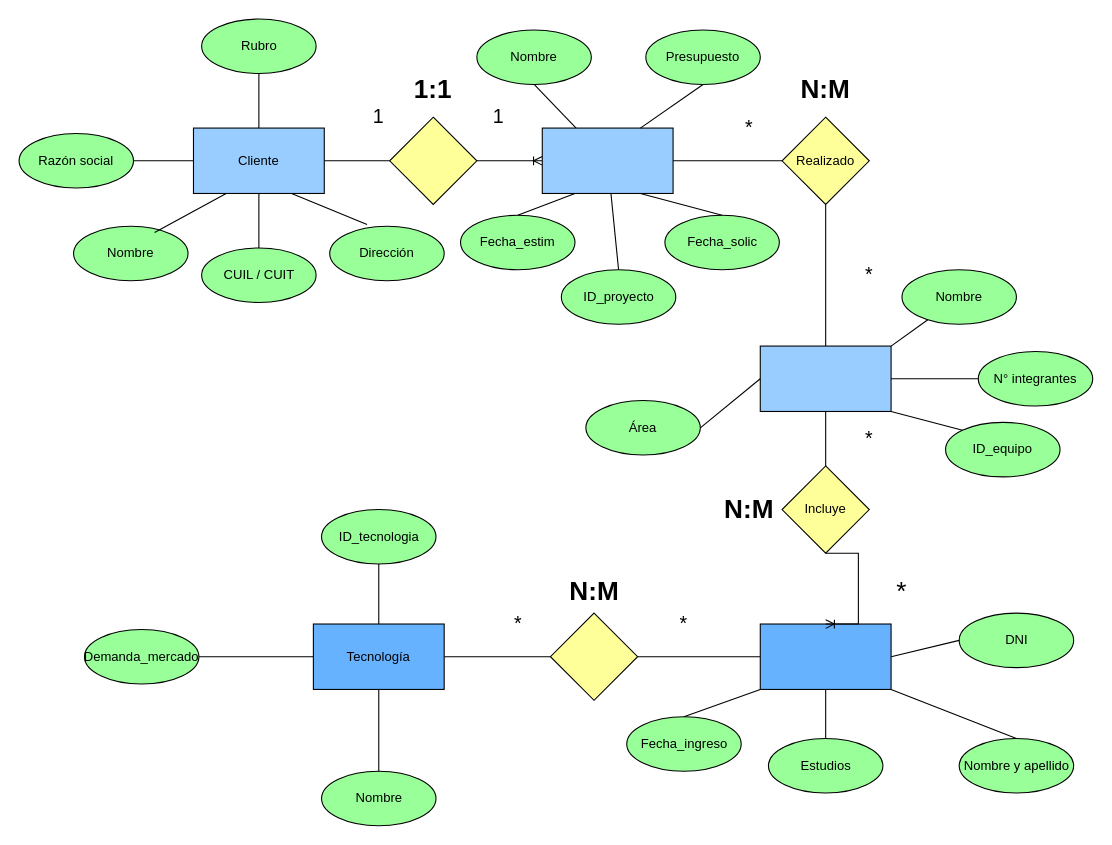
Image size: 1112x845. Some labels were removed from this diagram. Here are the shapes that lost their labels. From the top down, the box of each, then its label:
(389, 116, 477, 204): Solicita
(541, 127, 673, 193): Proyecto
(759, 345, 891, 411): Equipo
(549, 612, 638, 700): Domina
(759, 623, 891, 689): Empleado
